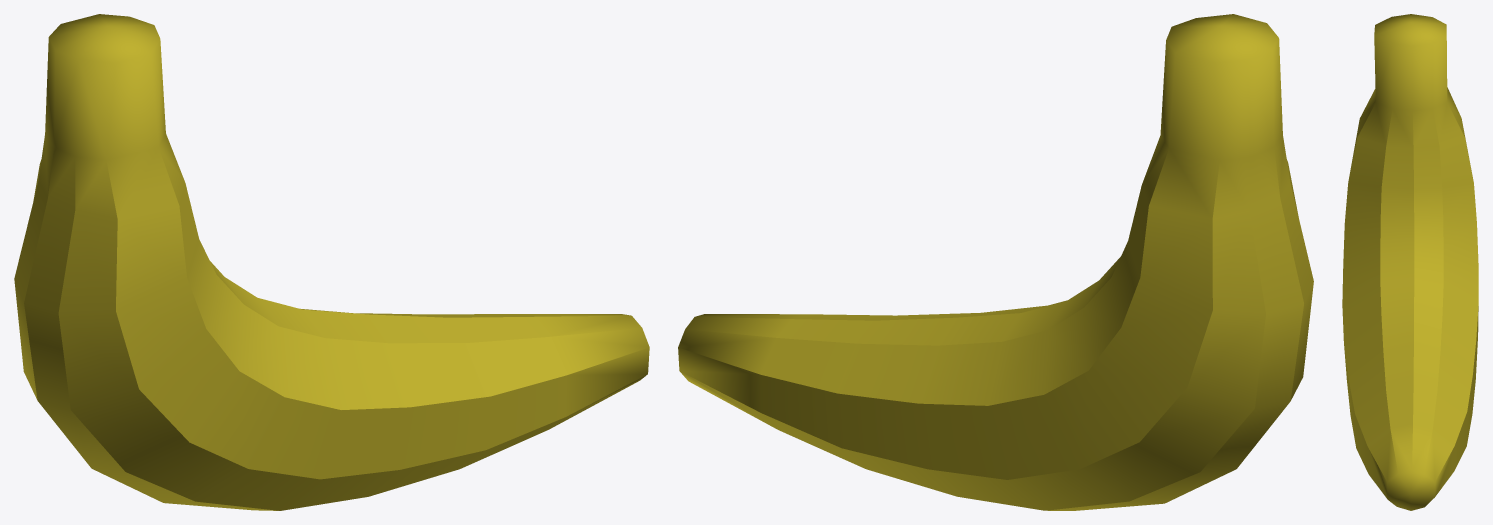
The model's file is CUT_BANANA_NXG.dae.
3 renders of one model, left to right at view 1: azimuth 30°, elevation 25°; view 2: azimuth 150°, elevation 25°; view 3: azimuth 270°, elevation 25°, orthographic. The views are drawn at different scales.
Visible parts, largest first — view 1: CUT_BANANA_NXG0000; view 2: CUT_BANANA_NXG0000; view 3: CUT_BANANA_NXG0000.
Part boxes in pixels (x1,y1,x2,y2): CUT_BANANA_NXG0000: (14, 14, 649, 510); CUT_BANANA_NXG0000: (678, 14, 1313, 510); CUT_BANANA_NXG0000: (1342, 14, 1478, 510).
Size of the model in its own units: 0.1798 by 0.0521 by 0.1478.
